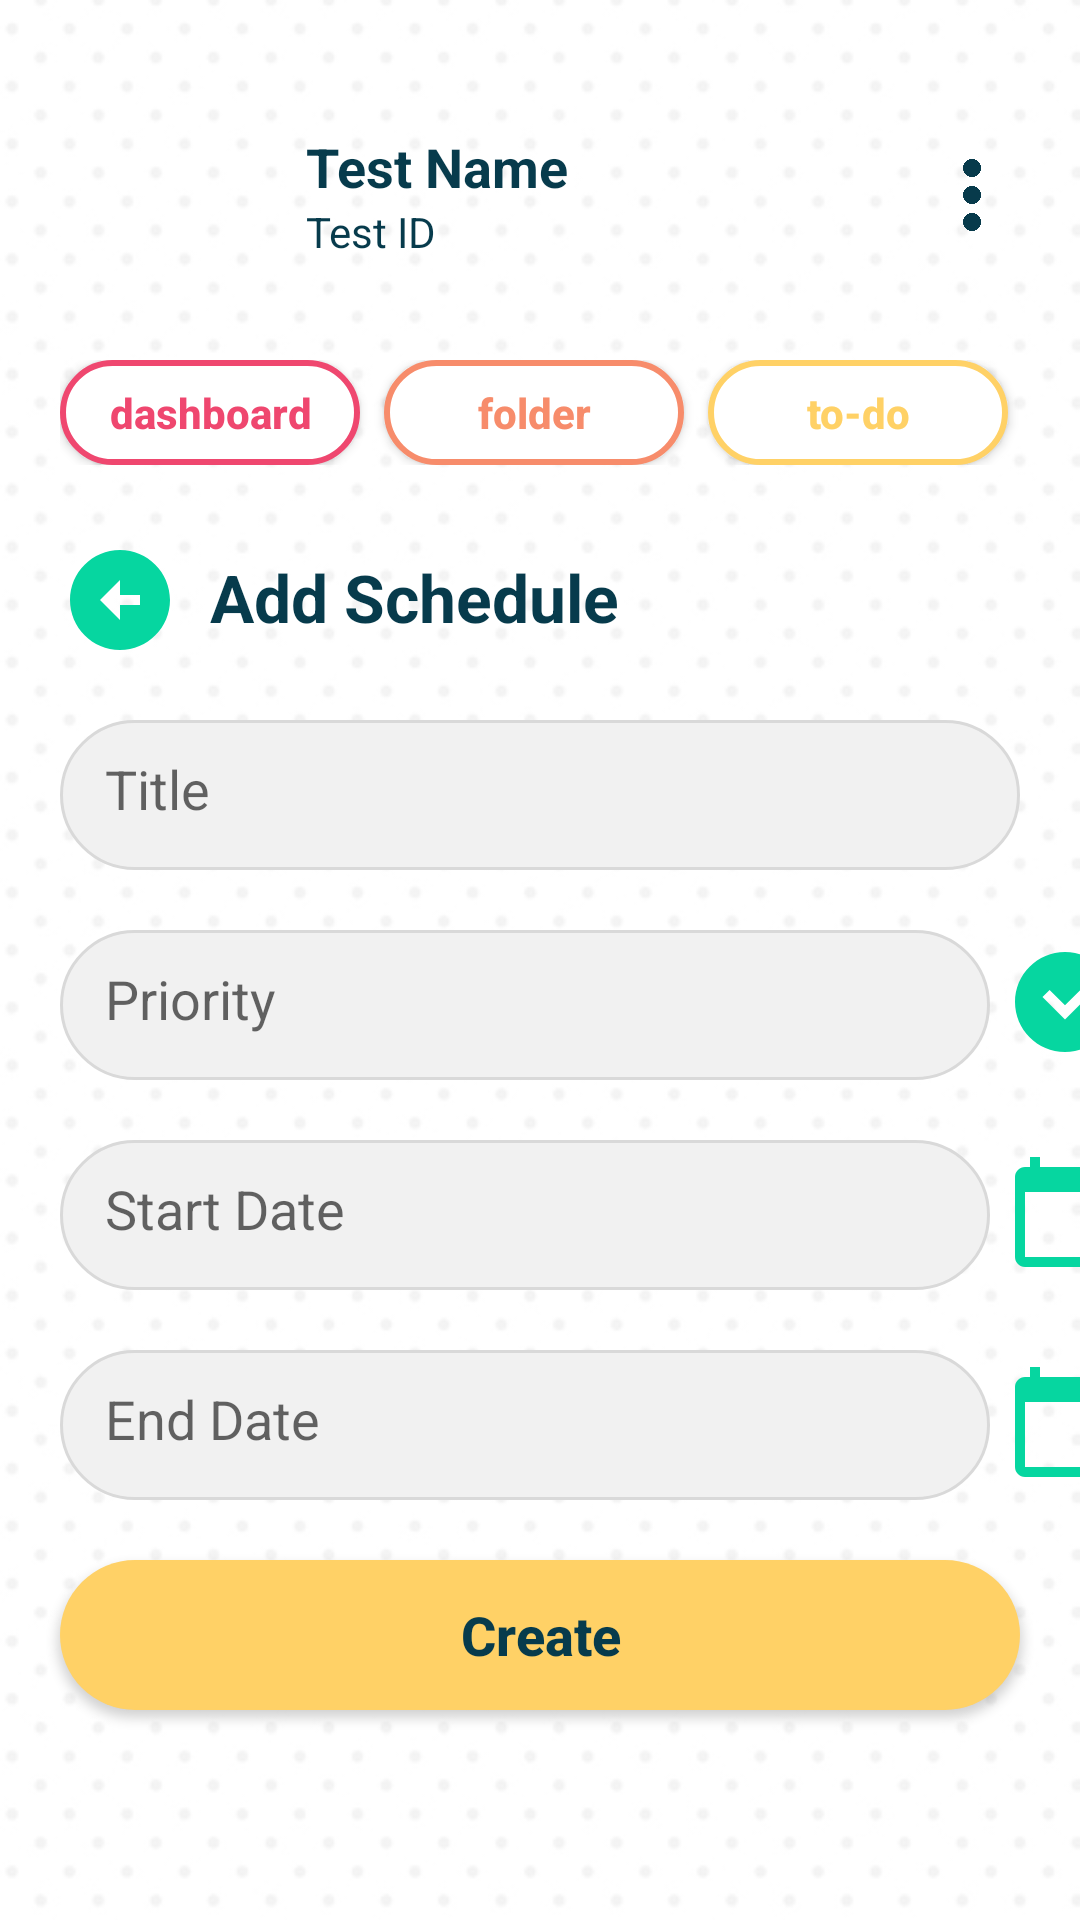

Icons on this 1080px x 1920px Android screen, each with its box as (x1, y1, x2, y2):
arrow circle left: (70, 550, 170, 650)
More Settings: (963, 159, 981, 231)
